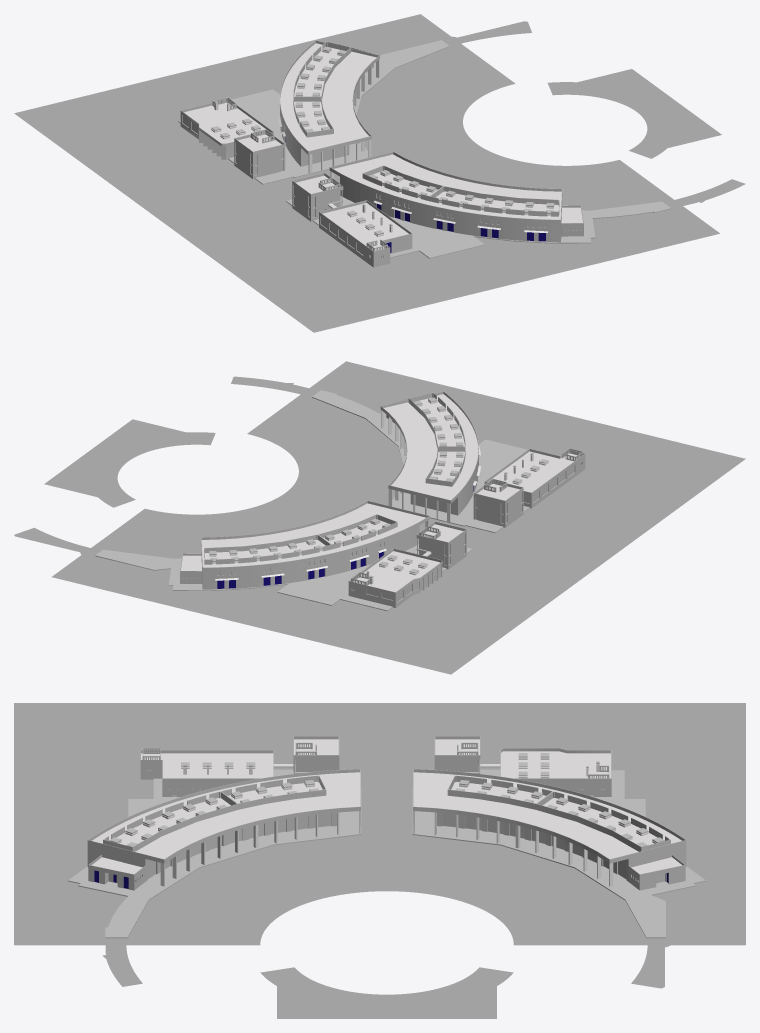
The model's file is EDIFICIOS Y AGORA reducido.FBX.
3 views of the same model, one above another, from view 1: azimuth 30°, elevation 25°; view 2: azimuth 150°, elevation 25°; view 3: azimuth 270°, elevation 25° (orthographic). The views are drawn at different scales.
Parts seen in each view (by area): view 1: GRIS CLARO MATE, BLANCO MATE, CARAVISTA BLANCO, PAVIMENTO, PAVES, NEGRO MATE, VEN_AZUL_GRANDE, MORADO, VENHO_AZUL; view 2: GRIS CLARO MATE, BLANCO MATE, CARAVISTA BLANCO, PAVIMENTO, PAVES, NEGRO MATE, VEN_AZUL_GRANDE, VENHO_AZUL; view 3: GRIS CLARO MATE, BLANCO MATE, CARAVISTA BLANCO, PAVIMENTO, VENHO_AGORA, NEGRO MATE, VEN_AZUL_GRANDE.
Part boxes in pixels (x1=…): GRIS CLARO MATE: x1=14, y1=14, x2=745, y2=332; BLANCO MATE: x1=184, y1=43, x2=582, y2=250; CARAVISTA BLANCO: x1=180, y1=40, x2=583, y2=267; PAVIMENTO: x1=178, y1=40, x2=671, y2=258; PAVES: x1=282, y1=120, x2=557, y2=241; NEGRO MATE: x1=211, y1=46, x2=554, y2=234; VEN_AZUL_GRANDE: x1=182, y1=115, x2=363, y2=254; MORADO: x1=285, y1=137, x2=545, y2=252; VENHO_AZUL: x1=235, y1=143, x2=581, y2=258; GRIS CLARO MATE: x1=14, y1=361, x2=745, y2=674; BLANCO MATE: x1=180, y1=394, x2=579, y2=592; CARAVISTA BLANCO: x1=180, y1=391, x2=585, y2=607; PAVIMENTO: x1=95, y1=390, x2=529, y2=611; PAVES: x1=205, y1=455, x2=478, y2=589; NEGRO MATE: x1=209, y1=397, x2=548, y2=577; VEN_AZUL_GRANDE: x1=366, y1=465, x2=574, y2=601; VENHO_AZUL: x1=182, y1=492, x2=522, y2=590; GRIS CLARO MATE: x1=14, y1=703, x2=745, y2=1018; BLANCO MATE: x1=91, y1=739, x2=682, y2=886; CARAVISTA BLANCO: x1=87, y1=736, x2=686, y2=890; PAVIMENTO: x1=68, y1=769, x2=705, y2=938; VENHO_AGORA: x1=147, y1=813, x2=626, y2=879; NEGRO MATE: x1=109, y1=753, x2=664, y2=846; VEN_AZUL_GRANDE: x1=295, y1=759, x2=564, y2=788.
Bounding box in the file's own units: 166 × 11.22 × 168.
